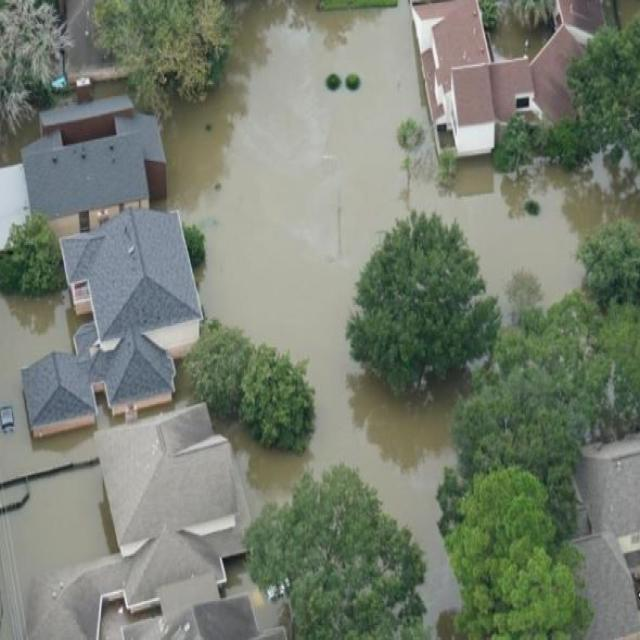flooded_areas: (343, 7, 639, 638), (0, 26, 292, 634)
